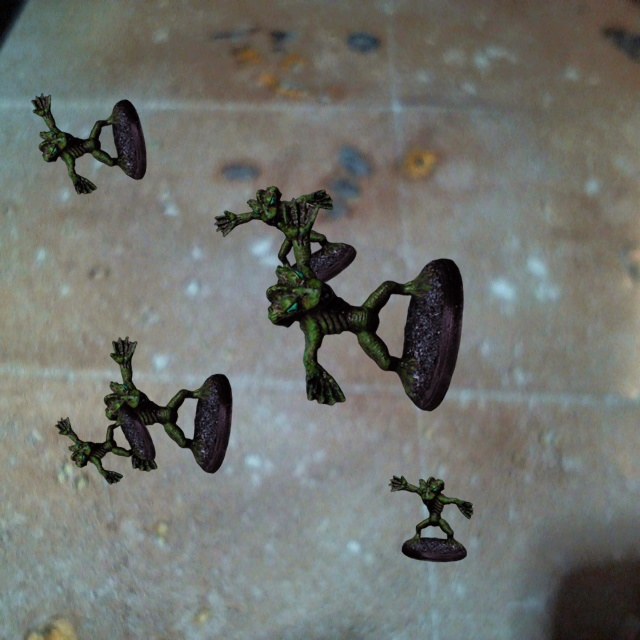pieza_juego: (266, 197, 463, 411), (104, 336, 232, 473), (214, 186, 356, 296), (31, 93, 146, 194), (55, 404, 155, 484), (388, 475, 472, 561)
